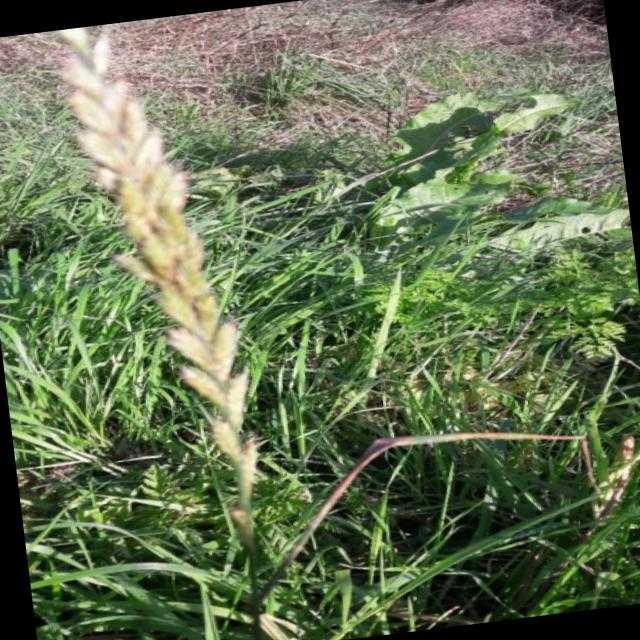Lolium: (34, 10, 280, 512)
